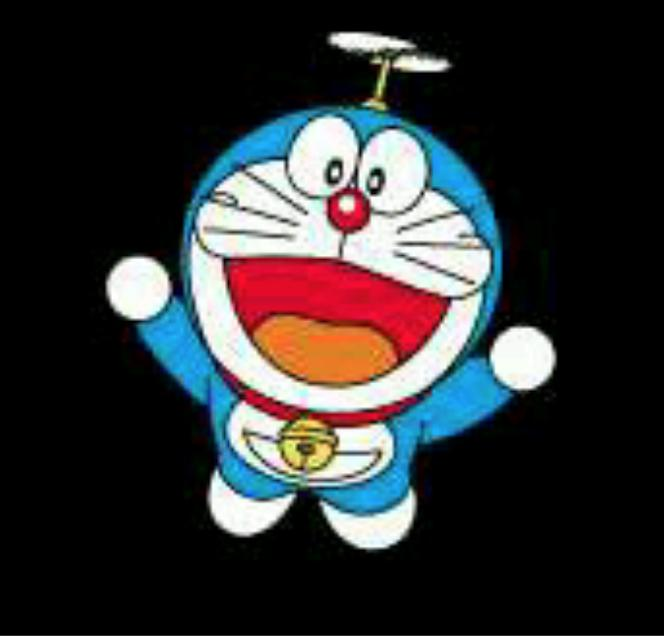ImgView: (1, 1, 663, 635)
